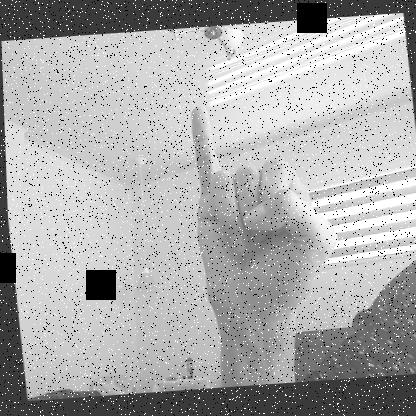I: (181, 96, 347, 323)
